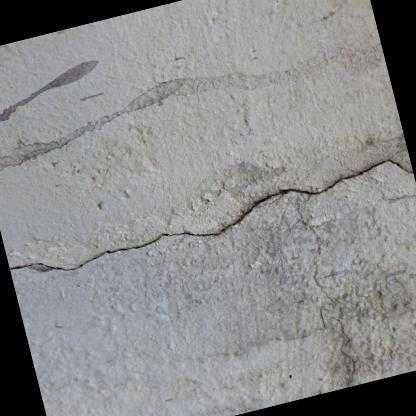crack: (9, 159, 414, 272)
